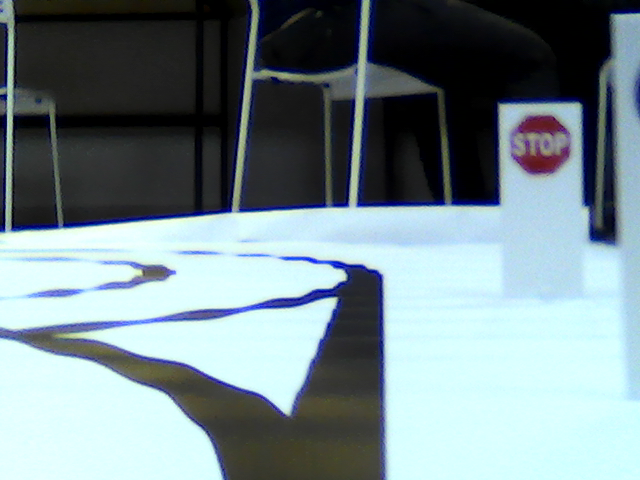Stop: (509, 115, 576, 173)
